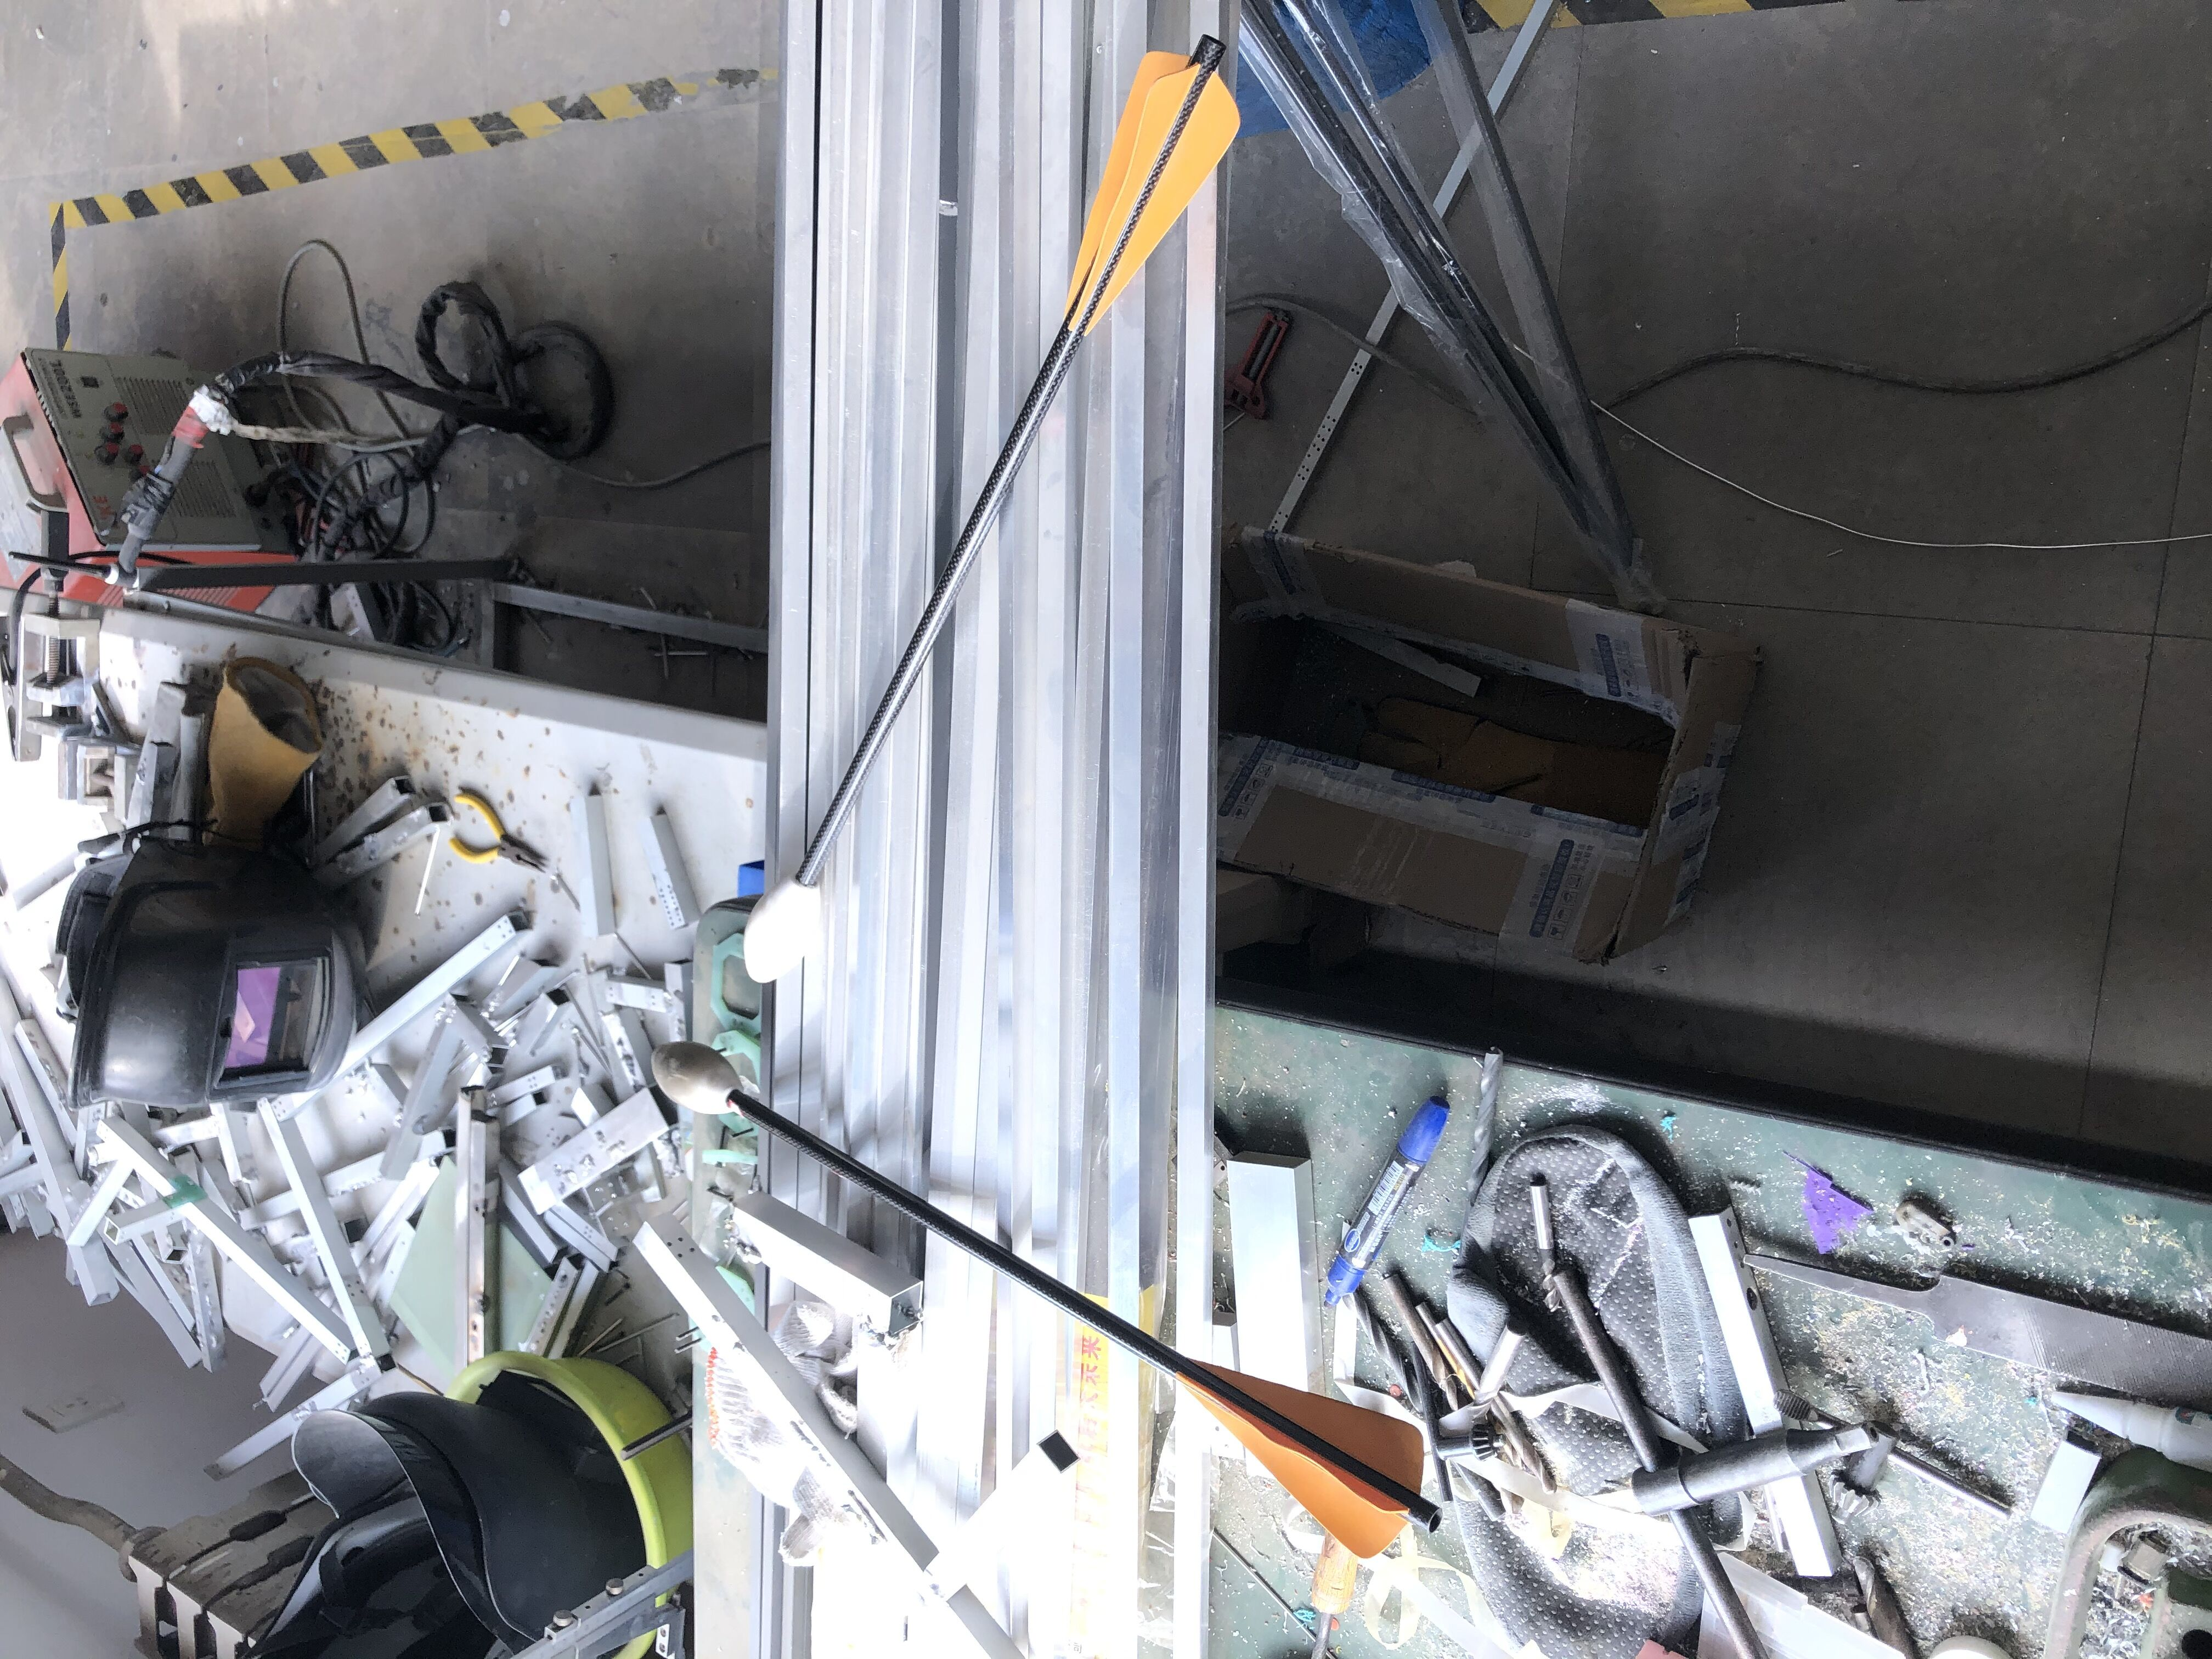arrow: (744, 35, 1247, 983), (651, 1040, 1446, 1560)
arrowFront: (744, 871, 824, 985), (650, 1039, 740, 1112)
